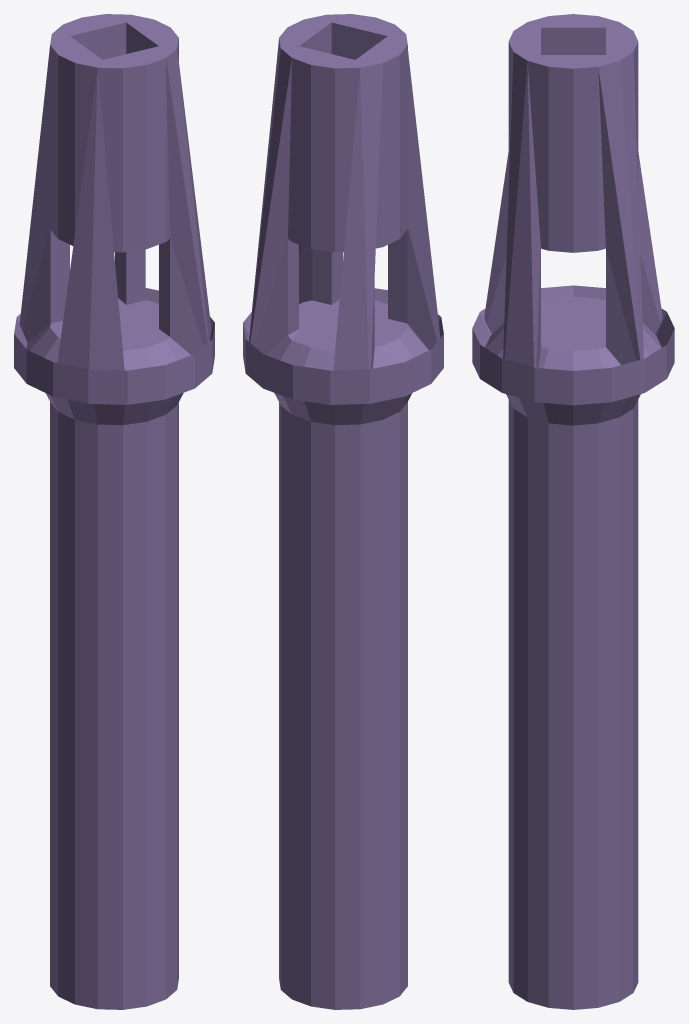
The model's file is Tower.obj.
The picture shows the model from 3 angles, left to right: view 1: azimuth 30°, elevation 25°; view 2: azimuth 150°, elevation 25°; view 3: azimuth 270°, elevation 25°; orthographic projection.
Visible parts, largest first — view 1: 円柱; view 2: 円柱; view 3: 円柱.
Part boxes in pixels (x1,y1,x2,y2): 円柱: (14, 14, 214, 1009); 円柱: (243, 14, 443, 1009); 円柱: (472, 14, 674, 1009).
Size of the model in its own units: 1.56 by 8 by 1.56.
1 material, 1 textured.
